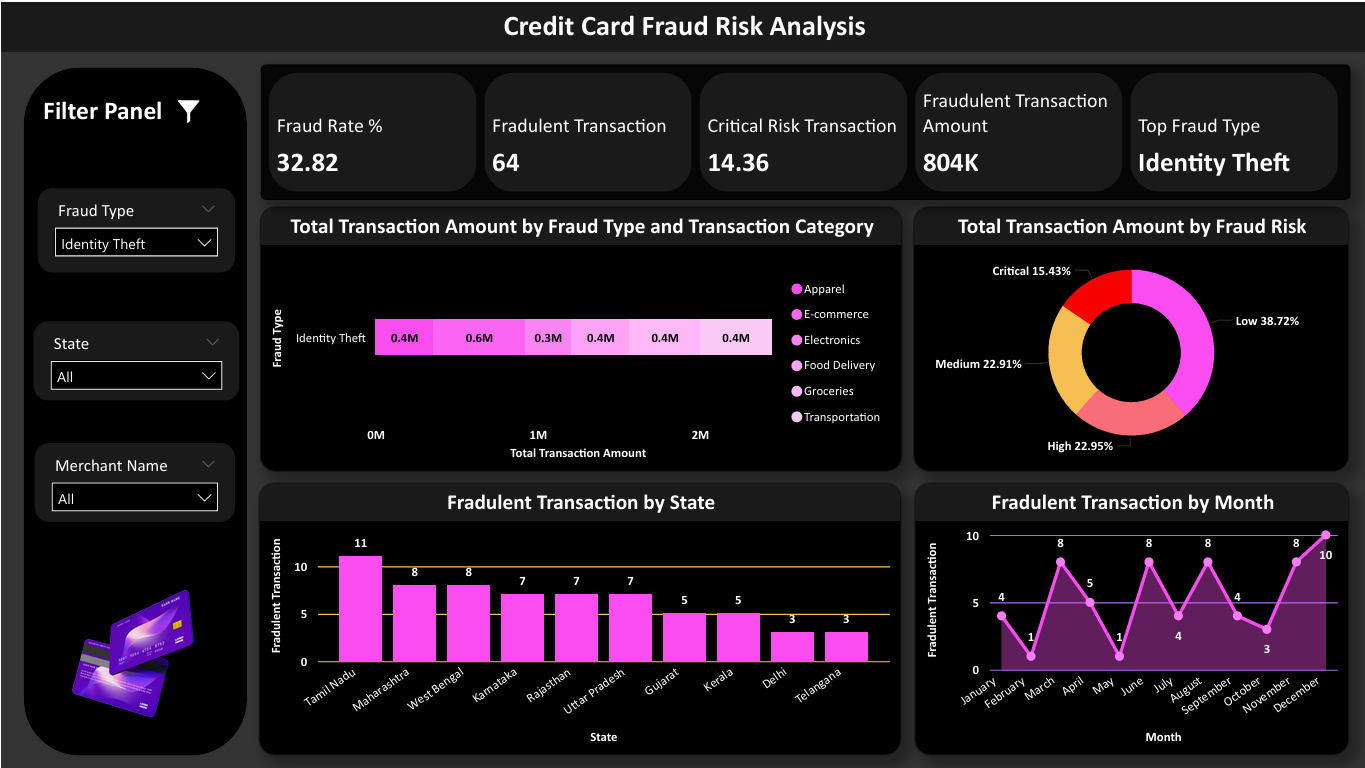

The page's visual inventory and layout, read from the dashboard file:
{"tool":"powerbi","page":{"name":"Page 1","canvas":[1280,720],"ordinal":0},"visuals":[{"type":"textbox","box":[0,0,1280.6,46.3],"z":0},{"type":"shape","box":[15.3,62,208.8,644.2],"z":1000},{"type":"textbox","box":[43,80.4,141.8,46.3],"z":2000},{"type":"image","box":[153.4,80.4,61.2,43.3],"z":3000},{"type":"slicer","fields":{"Values":["Credit Card Fraud Risk Analysis (1).Fraud Type"]},"box":[26,171,184.3,80.2],"z":4000},{"type":"slicer","fields":{"Values":["Credit Card Fraud Risk Analysis (1).State"]},"box":[23.8,270.8,192.9,73.7],"z":5000},{"type":"slicer","fields":{"Values":["Credit Card Fraud Risk Analysis (1).Merchant Name"]},"box":[26,359.6,188.6,75.9],"z":6000},{"type":"image","box":[39,496.5,145.3,138.7],"z":7000},{"type":"cardVisual","fields":{"Data":["Credit Card Fraud Risk Analysis (1).Fraud Rate %","Credit Card Fraud Risk Analysis (1).Fradulent Transaction","Credit Card Fraud Risk Analysis (1).Critical Risk Transaction","Credit Card Fraud Risk Analysis (1).Fraudulent Transaction Amount","Credit Card Fraud Risk Analysis (1).Top fraud Type"]},"box":[234.1,54.2,1021.1,127.9],"z":8000},{"type":"barChart","fields":{"Category":["Credit Card Fraud Risk Analysis (1).Fraud Type"],"Y":["Credit Card Fraud Risk Analysis (1).Total Transaction"],"Series":["Credit Card Fraud Risk Analysis (1).Transaction Category"]},"box":[234.1,188.6,602.7,249.3],"z":9000},{"type":"donutChart","fields":{"Category":["Credit Card Fraud Risk Analysis (1).Fraud Risk"],"Y":["Credit Card Fraud Risk Analysis (1).Total Transaction"]},"box":[845.5,188.6,409.7,249.3],"z":10000},{"type":"columnChart","fields":{"Category":["Credit Card Fraud Risk Analysis (1).State"],"Y":["Credit Card Fraud Risk Analysis (1).Fradulent Transaction"]},"box":[234.1,448.8,602.7,255.8],"z":11000},{"type":"lineChart","fields":{"Category":["Credit Card Fraud Risk Analysis (1).Transaction Date.Variation.Date Hierarchy.Month"],"Y":["Credit Card Fraud Risk Analysis (1).Fradulent Transaction"]},"box":[847.7,448.8,407.6,255.8],"z":12000}]}

Visuals, with their boxes in screenshot pixels (x1, y1, x2, y2), scaled from the page's 1280x720 canvas onto the 1365x768 screenshot:
textbox: 0 0 1364 49
shape: 16 66 239 753
textbox: 46 86 197 135
image: 164 86 229 132
slicer - Credit Card Fraud Risk Analysis (1).Fraud Type: 28 182 224 268
slicer - Credit Card Fraud Risk Analysis (1).State: 25 289 231 367
slicer - Credit Card Fraud Risk Analysis (1).Merchant Name: 28 384 229 465
image: 42 530 197 678
cardVisual - Credit Card Fraud Risk Analysis (1).Fraud Rate % x Credit Card Fraud Risk Analysis (1).Fradulent Transaction: 250 58 1339 194
barChart - Credit Card Fraud Risk Analysis (1).Fraud Type x Credit Card Fraud Risk Analysis (1).Total Transaction: 250 201 892 467
donutChart - Credit Card Fraud Risk Analysis (1).Fraud Risk x Credit Card Fraud Risk Analysis (1).Total Transaction: 902 201 1339 467
columnChart - Credit Card Fraud Risk Analysis (1).State x Credit Card Fraud Risk Analysis (1).Fradulent Transaction: 250 479 892 752
lineChart - Credit Card Fraud Risk Analysis (1).Transaction Date.Variation.Date Hierarchy.Month x Credit Card Fraud Risk Analysis (1).Fradulent Transaction: 904 479 1339 752
